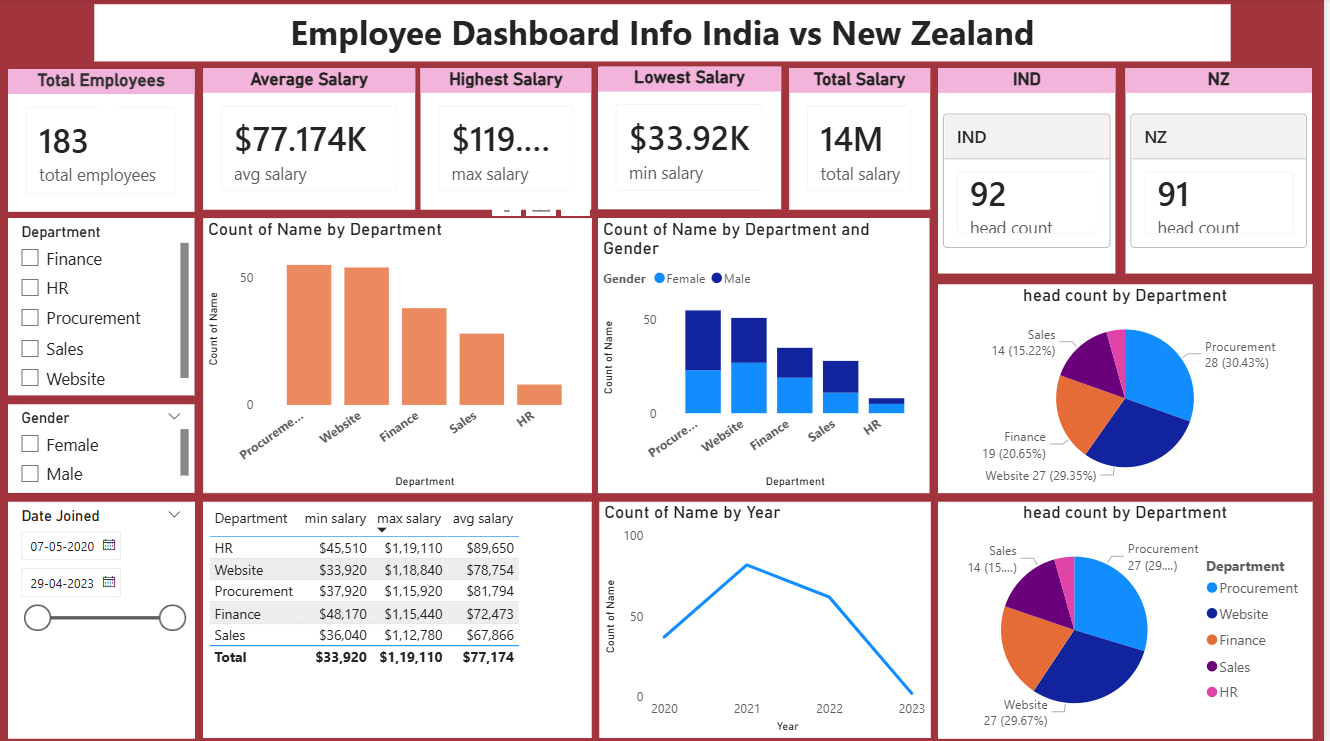

This screenshot's page, from the dashboard's own definition file:
{"tool":"powerbi","page":{"name":"Page 1","canvas":[1280,720],"ordinal":0},"visuals":[{"type":"columnChart","fields":{"Category":["Data.Department"],"Y":["CountNonNull(Data.Name)"]},"box":[197.9,212.3,375.2,265.4],"z":0},{"type":"columnChart","fields":{"Category":["Data.Department"],"Y":["CountNonNull(Data.Name)"],"Series":["Data.Gender"]},"box":[579.1,212.3,319.7,265.4],"z":1000},{"type":"tableEx","fields":{"Values":["Data.Department","Data.min salary","Data.max salary","Data.avg salary"]},"box":[197.9,486.2,375.2,228],"z":2000},{"type":"lineChart","fields":{"Category":["Data.Date Joined.Variation.Date Hierarchy.Year","Data.Date Joined.Variation.Date Hierarchy.Quarter","Data.Date Joined.Variation.Date Hierarchy.Month","Data.Date Joined.Variation.Date Hierarchy.Day"],"Y":["CountNonNull(Data.Name)"]},"box":[580.3,486.2,319.7,228],"z":3000},{"type":"cardVisual","title":"Total Employees","fields":{"Data":["Data.total employees"]},"box":[10,68.2,180,137.3],"z":4000},{"type":"cardVisual","title":"Average Salary","fields":{"Data":["Data.avg salary"]},"box":[197.5,67.5,205,136.7],"z":5000},{"type":"cardVisual","title":"Highest Salary","fields":{"Data":["Data.max salary"]},"box":[408.3,67.5,165,136.7],"z":6000},{"type":"cardVisual","title":"Lowest Salary","fields":{"Data":["Data.min salary"]},"box":[579.2,66.7,176.7,137.5],"z":7000},{"type":"cardVisual","title":"Total Salary","fields":{"Data":["Data.total salary"]},"box":[763.3,67.5,135.8,136.7],"z":8000},{"type":"slicer","fields":{"Values":["Data.Department"]},"box":[9.7,212.3,179.8,171.3],"z":9000},{"type":"slicer","fields":{"Values":["Data.Gender"]},"box":[9.7,392.1,179.8,85.7],"z":10000},{"type":"slicer","fields":{"Values":["Data.Date Joined"]},"box":[9.7,486.2,179.8,228],"z":11000},{"type":"textbox","box":[100,100,16.4,41.8],"z":12000},{"type":"textbox","box":[92.9,6,1096.7,55.5],"z":13000},{"type":"pieChart","fields":{"Category":["Data.Department"],"Y":["Data.head count"]},"box":[907.1,275.7,361.4,201.4],"z":14000},{"type":"pieChart","fields":{"Category":["Data.Department"],"Y":["Data.head count"]},"box":[907.1,485.7,361.4,228.6],"z":15000},{"type":"cardVisual","title":"IND","fields":{"Data":["Data.head count"],"Rows":["Data.Country"]},"box":[907.1,67.1,171.4,198.6],"z":16000},{"type":"cardVisual","title":"NZ","fields":{"Data":["Data.head count"],"Rows":["Data.Country"]},"box":[1088.6,67.1,180,198.6],"z":17000}]}

Visuals, with their boxes in screenshot pixels (x1, y1, x2, y2), scaled from the page's 1280x720 canvas onto the 1330x741 screenshot:
columnChart - Data.Department x CountNonNull(Data.Name): x1=206 y1=218 x2=595 y2=492
columnChart - Data.Department x CountNonNull(Data.Name): x1=602 y1=218 x2=934 y2=492
tableEx - Data.Department x Data.min salary: x1=206 y1=500 x2=595 y2=735
lineChart - Data.Date Joined.Variation.Date Hierarchy.Year x Data.Date Joined.Variation.Date Hierarchy.Quarter: x1=603 y1=500 x2=935 y2=735
"Total Employees" cardVisual: x1=10 y1=70 x2=197 y2=211
"Average Salary" cardVisual: x1=205 y1=69 x2=418 y2=210
"Highest Salary" cardVisual: x1=424 y1=69 x2=596 y2=210
"Lowest Salary" cardVisual: x1=602 y1=69 x2=785 y2=210
"Total Salary" cardVisual: x1=793 y1=69 x2=934 y2=210
slicer - Data.Department: x1=10 y1=218 x2=197 y2=395
slicer - Data.Gender: x1=10 y1=404 x2=197 y2=492
slicer - Data.Date Joined: x1=10 y1=500 x2=197 y2=735
textbox: x1=104 y1=103 x2=121 y2=146
textbox: x1=97 y1=6 x2=1236 y2=63
pieChart - Data.Department x Data.head count: x1=943 y1=284 x2=1318 y2=491
pieChart - Data.Department x Data.head count: x1=943 y1=500 x2=1318 y2=735
"IND" cardVisual: x1=943 y1=69 x2=1121 y2=273
"NZ" cardVisual: x1=1131 y1=69 x2=1318 y2=273
